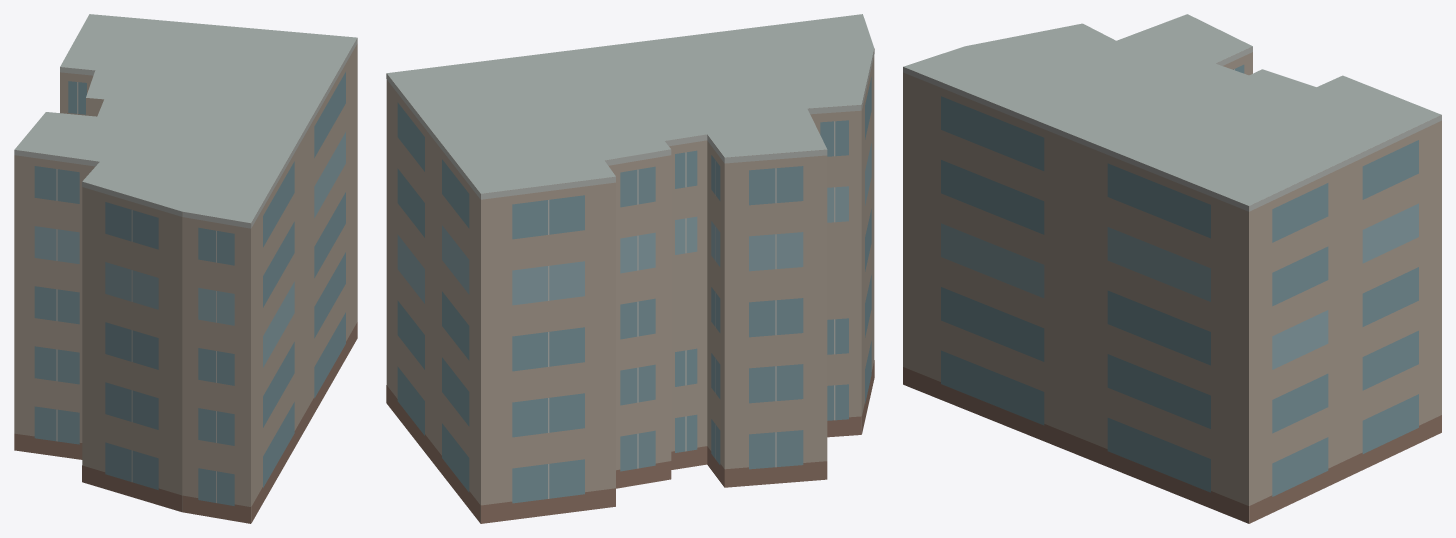
Rendered from survey-upis-32833460.glb.
3 renders of one model, left to right at view 1: azimuth 30°, elevation 25°; view 2: azimuth 150°, elevation 25°; view 3: azimuth 270°, elevation 25°, orthographic. The views are drawn at different scales.
Parts seen in each view (by area): view 1: survey-upis-32833460.tmp; view 2: survey-upis-32833460.tmp; view 3: survey-upis-32833460.tmp.
Boxes of the visible parts, <box> form: survey-upis-32833460.tmp: <box>14,14,357,523</box>; survey-upis-32833460.tmp: <box>386,14,874,523</box>; survey-upis-32833460.tmp: <box>903,14,1441,523</box>.
Bounding box in the file's own units: 17.64 × 13.6 × 20.9.
